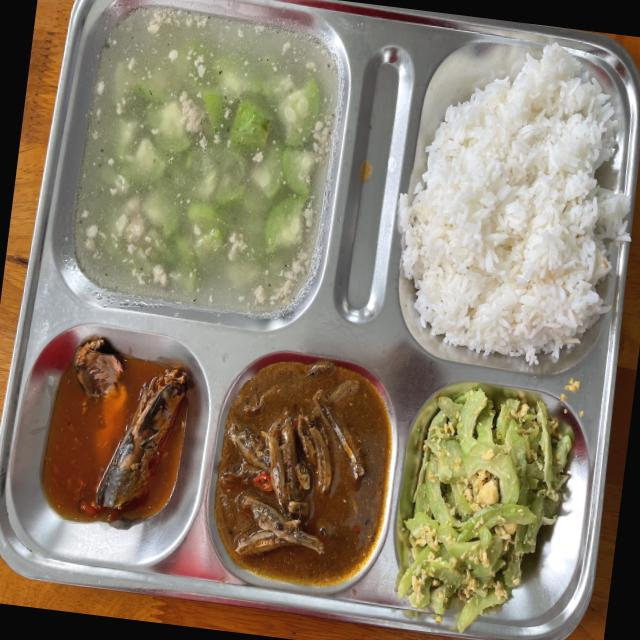ca kho: (196, 368, 373, 595), (42, 338, 187, 523)
canh bau: (74, 10, 337, 316)
com: (400, 44, 627, 365)
kho qua: (396, 385, 573, 631)
